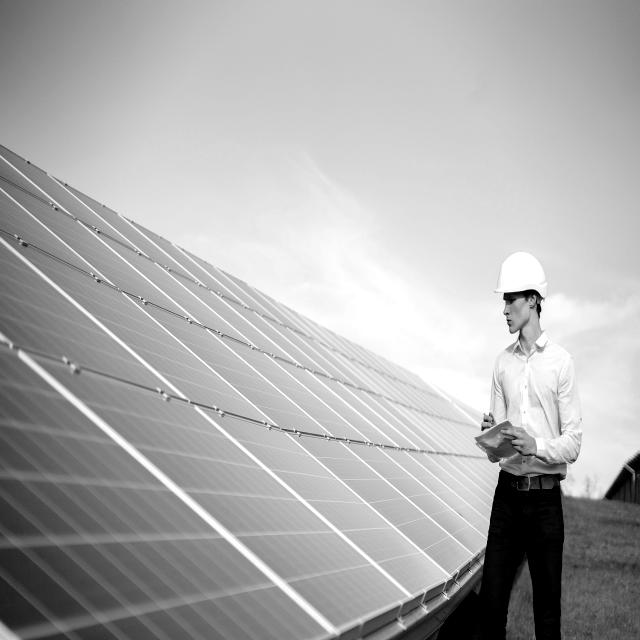No-Vest: (494, 343, 564, 479)
